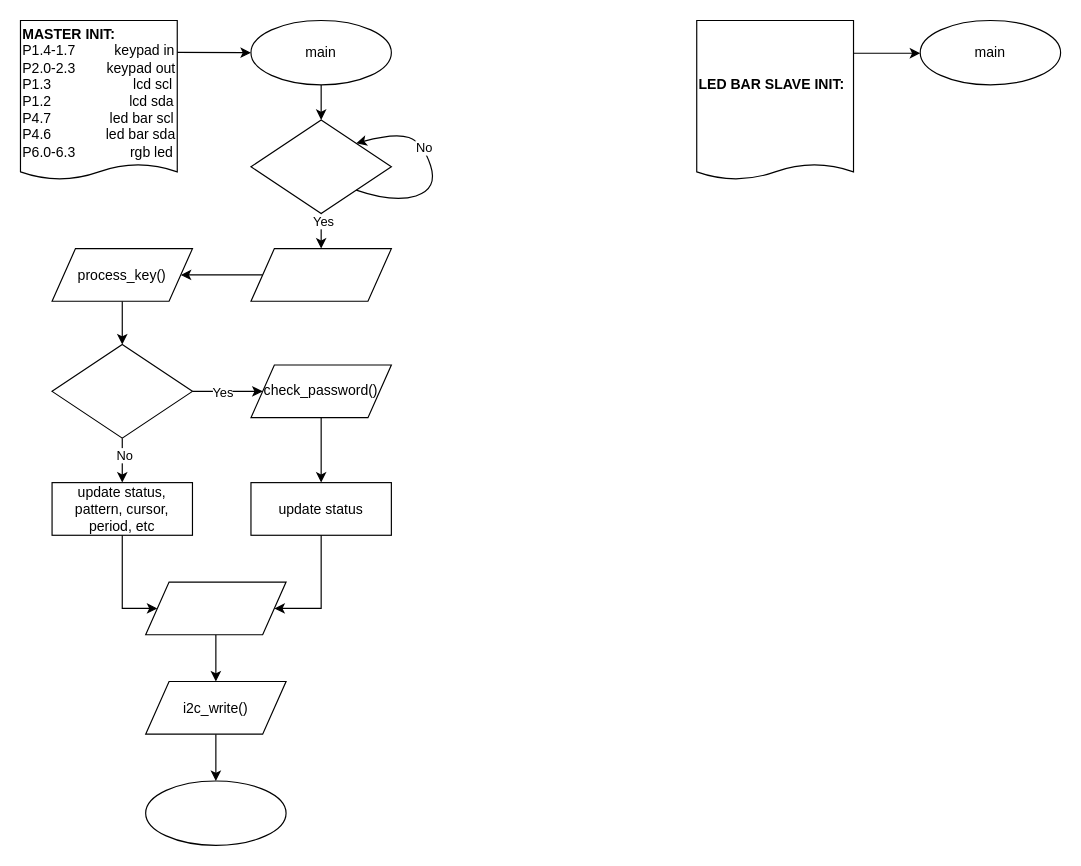
The diagram is 1081 pixels wide and 866 high, and some of its shapes have lost their labels. The shapes that lost their labels are listed below. From the top down, each one's centre as x and y in pixels, then its label:
At (x=320, y=166): "is key pressed?".
At (x=320, y=274): "get_key()".
At (x=121, y=390): "is locked or unlocking?".
At (x=215, y=608): "update_rgb_led()".
At (x=215, y=812): "return".
